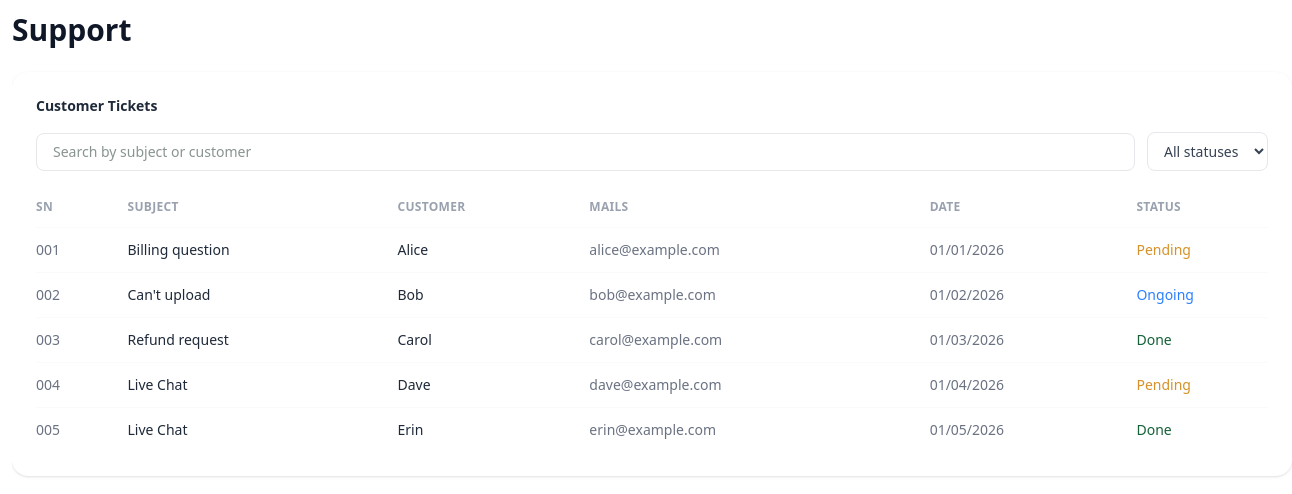
Test: AdminSupportPage › always shows a way back to the ticket list, even for a read-only admin
Click the text "Billing question" at (179, 250), box x1=128 y1=228 x2=398 y2=272
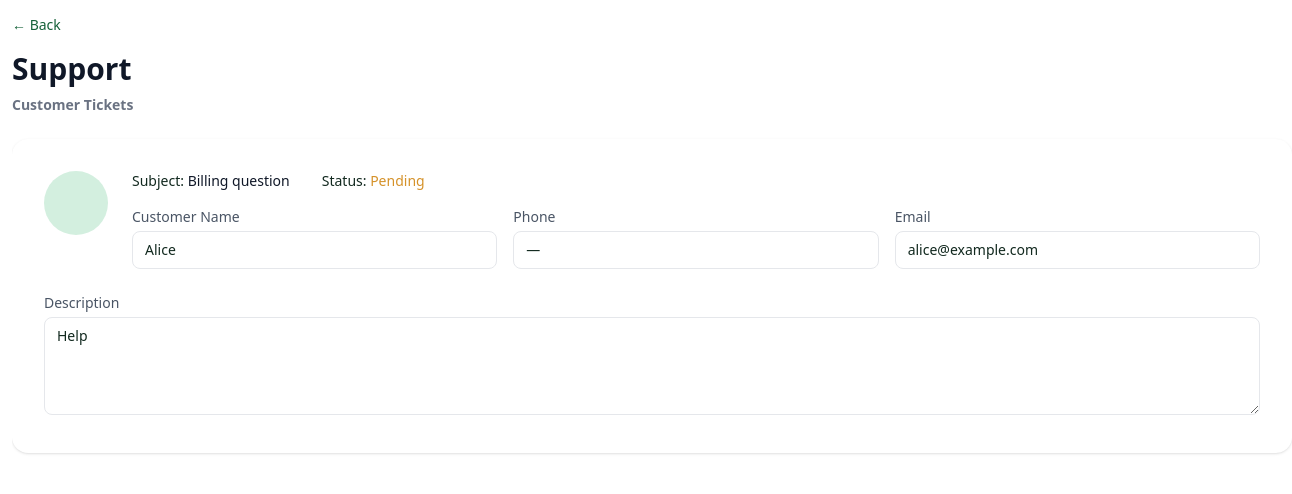
Now the text "Description" is shown, box x1=44 y1=293 x2=119 y2=312
Click the button "← Back" at (36, 25), box x1=12 y1=15 x2=61 y2=35
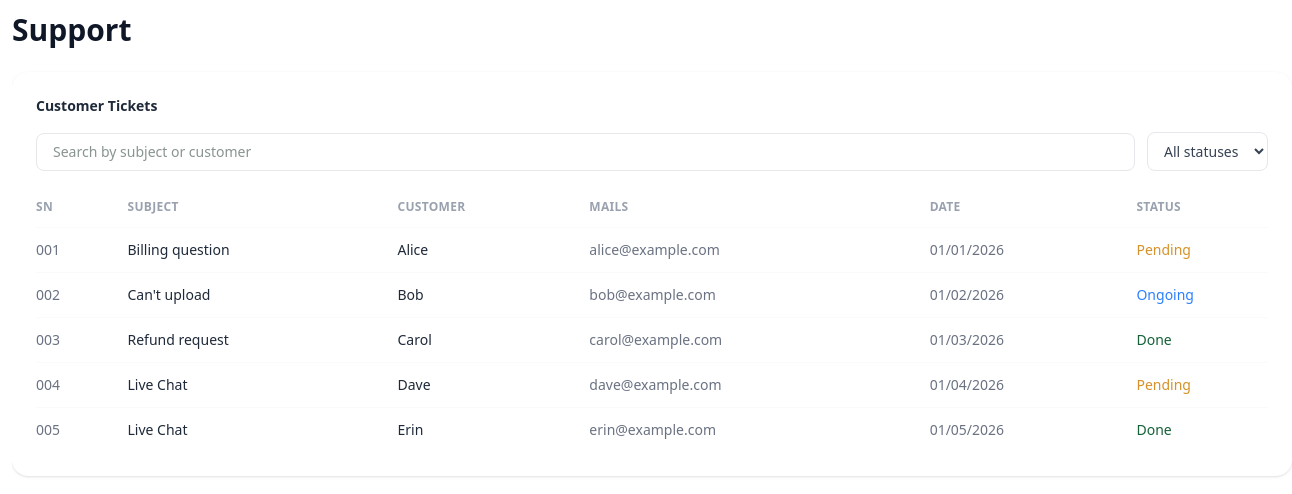
Expected: the text "Billing question" is shown, x1=128 y1=228 x2=398 y2=272
Now the text "Description" is gone
